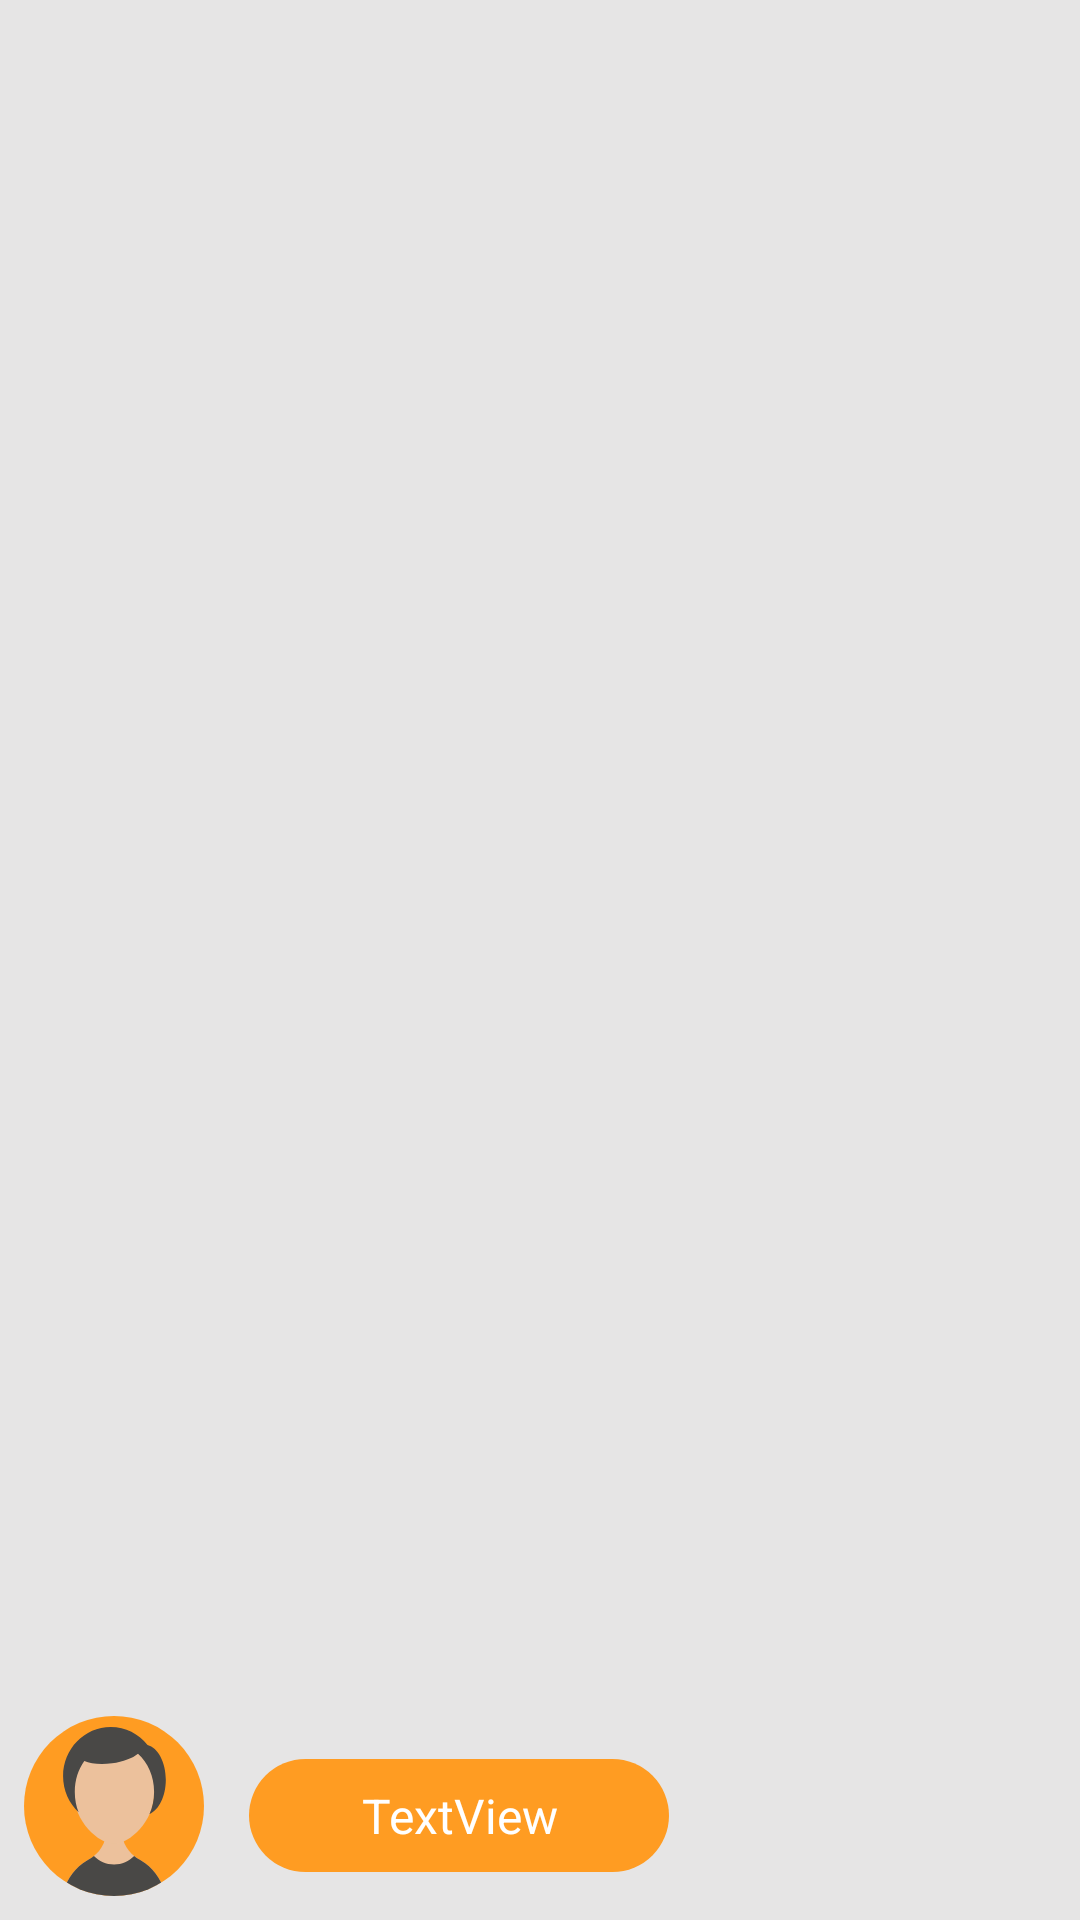

Icons on this 1080x1920 Android screen, each with the point to tap as [x,y]:
personsender: [114,1806]
